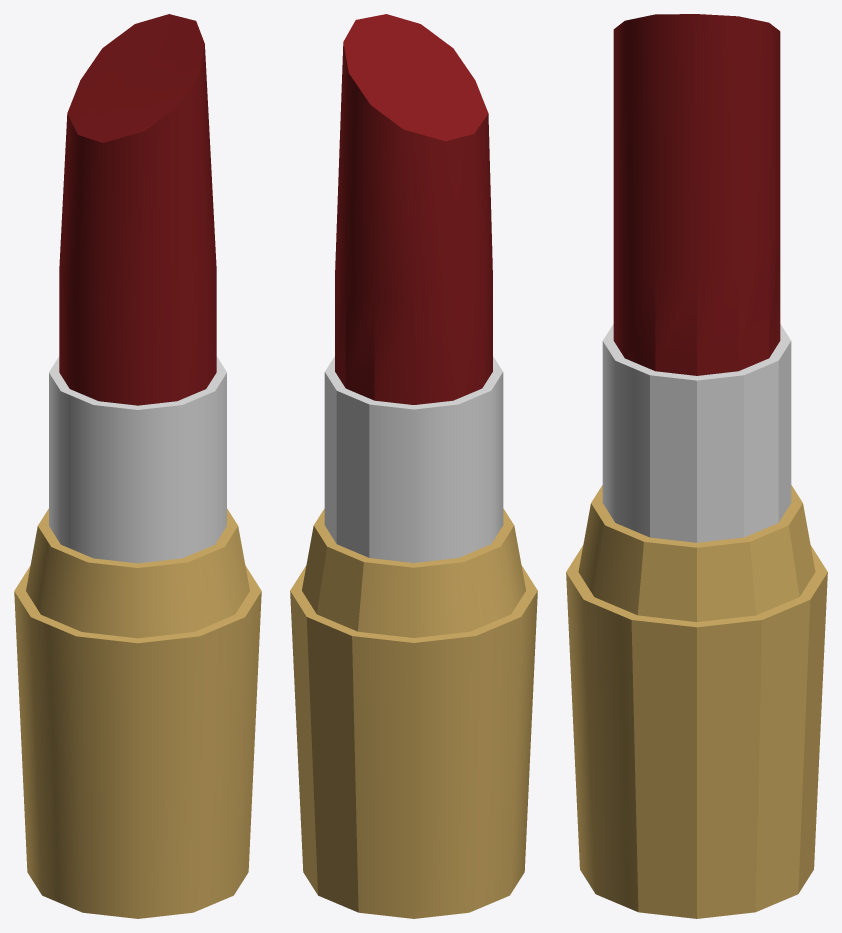
The model's file is Lipstick.fbx.
The picture shows the model from 3 angles, left to right: view 1: azimuth 30°, elevation 25°; view 2: azimuth 150°, elevation 25°; view 3: azimuth 270°, elevation 25°; orthographic projection. The views are drawn at different scales.
Parts seen in each view (by area): view 1: pCylinder1; view 2: pCylinder1; view 3: pCylinder1.
Part boxes in pixels (left/top/right/bottom): pCylinder1: left=14, top=14, right=261, bottom=918; pCylinder1: left=290, top=14, right=537, bottom=918; pCylinder1: left=566, top=14, right=827, bottom=918.
Bounding box in the file's own units: 1.91 × 7.13 × 1.91.
